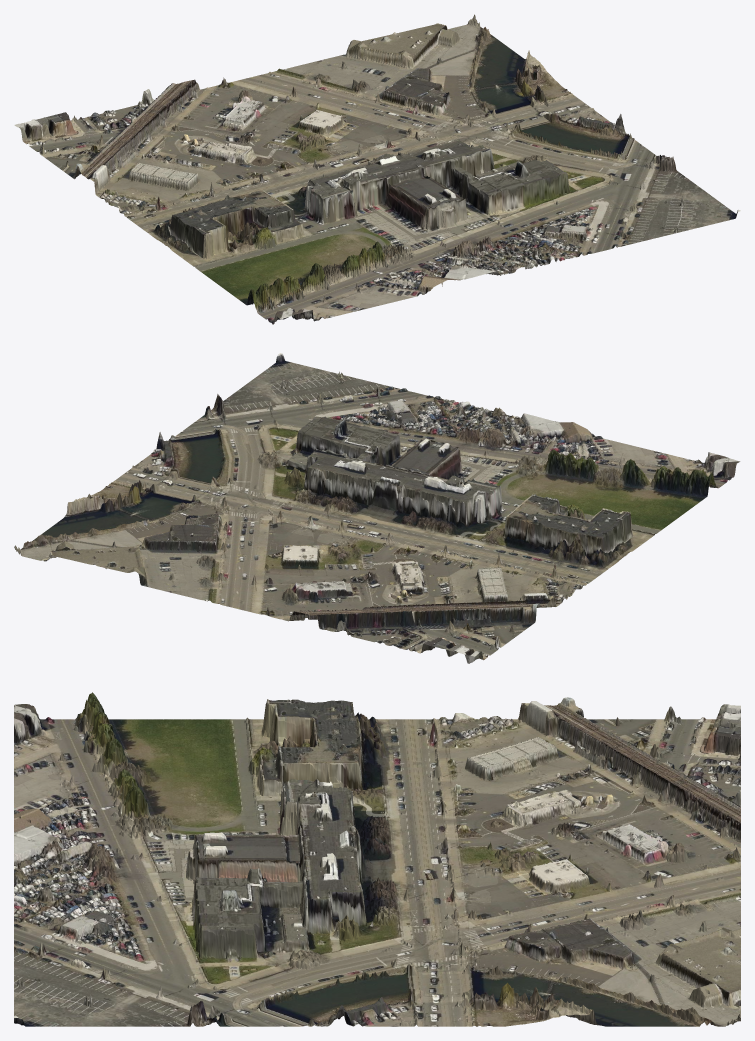
Rendered from gamus_philadelphia-truth_mesh.glb.
3 renders of one model, top to bottom at view 1: azimuth 30°, elevation 25°; view 2: azimuth 150°, elevation 25°; view 3: azimuth 270°, elevation 25°, orthographic. The views are drawn at different scales.
Visible parts, largest first — view 1: terrain; view 2: terrain; view 3: terrain.
Boxes of the visible parts, x1=… form: terrain: x1=14, y1=14, x2=740, y2=324; terrain: x1=14, y1=353, x2=740, y2=663; terrain: x1=14, y1=692, x2=740, y2=1026.
Size of the model in its own units: 338 by 21.47 by 338.
1 material, 1 textured.
